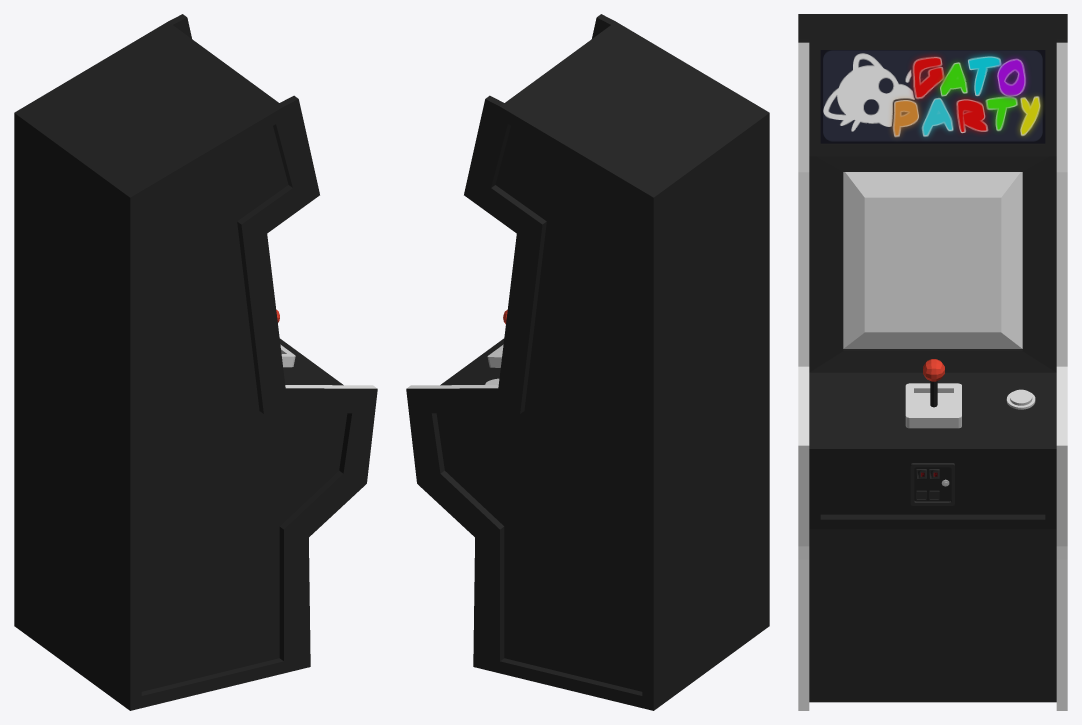
Rendered from Arcade.fbx.
3 renders of one model, left to right at view 1: azimuth 30°, elevation 25°; view 2: azimuth 150°, elevation 25°; view 3: azimuth 270°, elevation 25°, orthographic. The views are drawn at different scales.
Visible parts, largest first — view 1: Arcade; view 2: Arcade; view 3: Arcade.
Boxes of the visible parts, x1,y1,x2,y2 form: Arcade: [14, 14, 377, 710]; Arcade: [406, 14, 769, 710]; Arcade: [798, 14, 1067, 710].
Size of the model in its own units: 293 by 646 by 238.
Materials: 8 (2 with a texture image).
